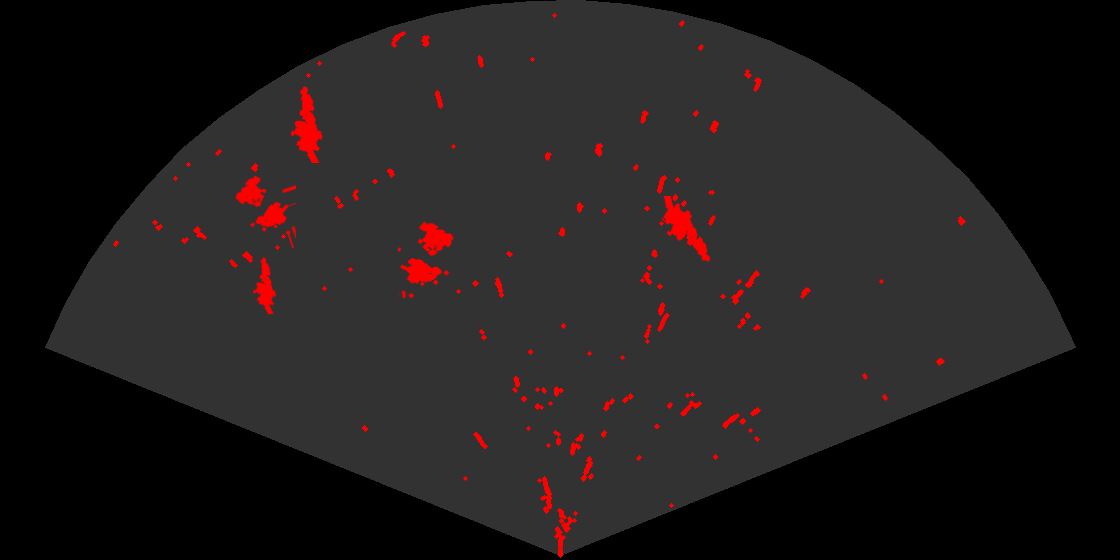cage: (234, 174, 296, 248), (398, 220, 455, 298)
frogman: (662, 196, 712, 263), (289, 85, 324, 163), (251, 255, 278, 314)
